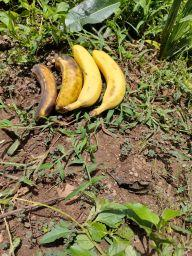banana: (60, 42, 103, 115), (86, 47, 128, 120), (51, 51, 84, 112), (29, 61, 58, 125)
